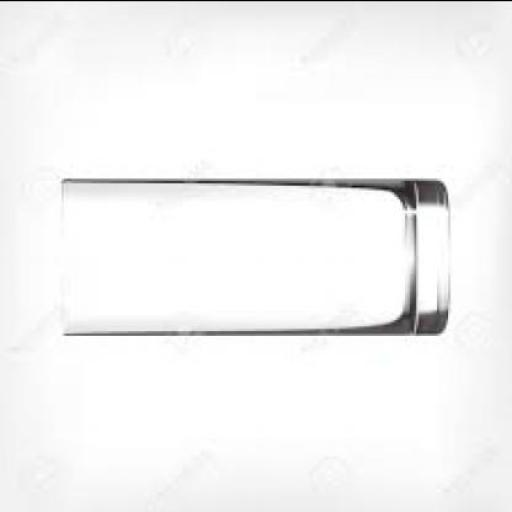glass: (57, 175, 446, 332)
